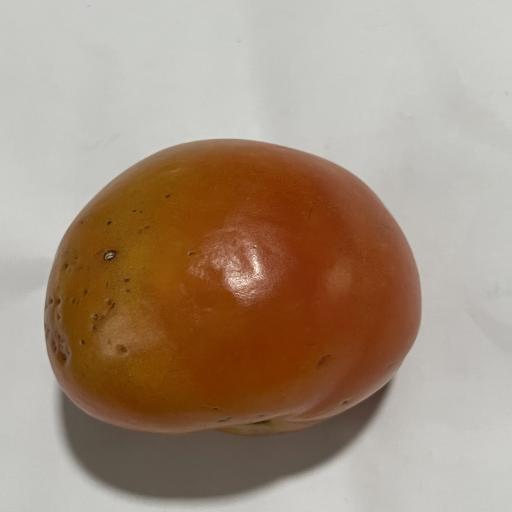unripe: (45, 140, 420, 435)
